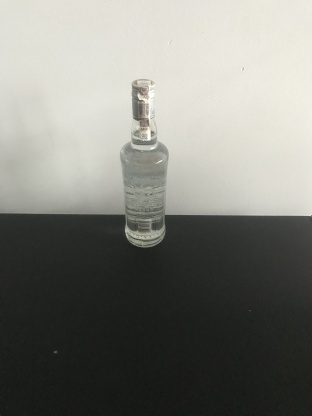nakretka: (130, 77, 156, 121)
